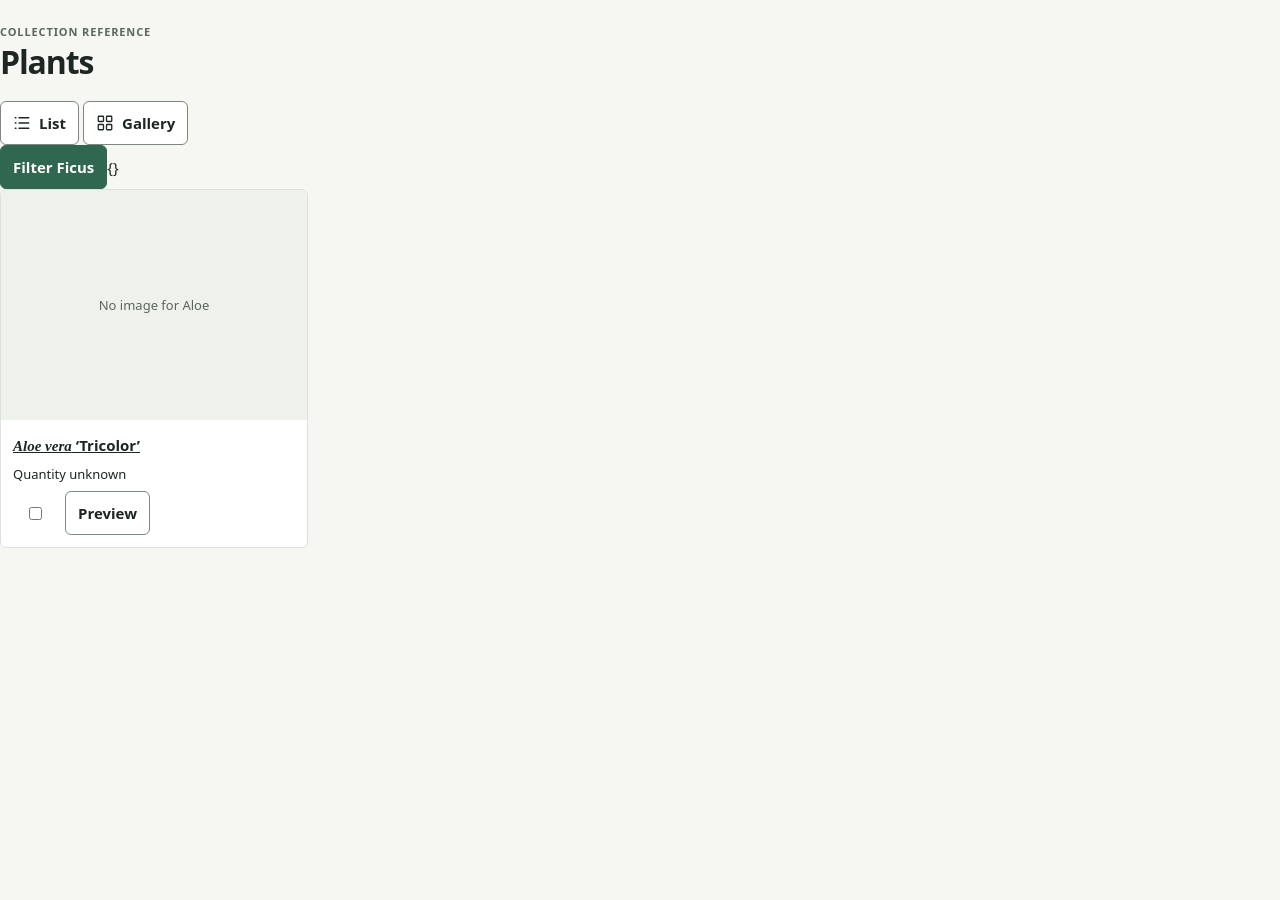
Test: compact preview uses the house dialog, contains focus and returns on Escape
Step 1. Click the button with aria-label "Quick preview Aloe" → (108, 513), box x1=65 y1=491 x2=150 y2=535
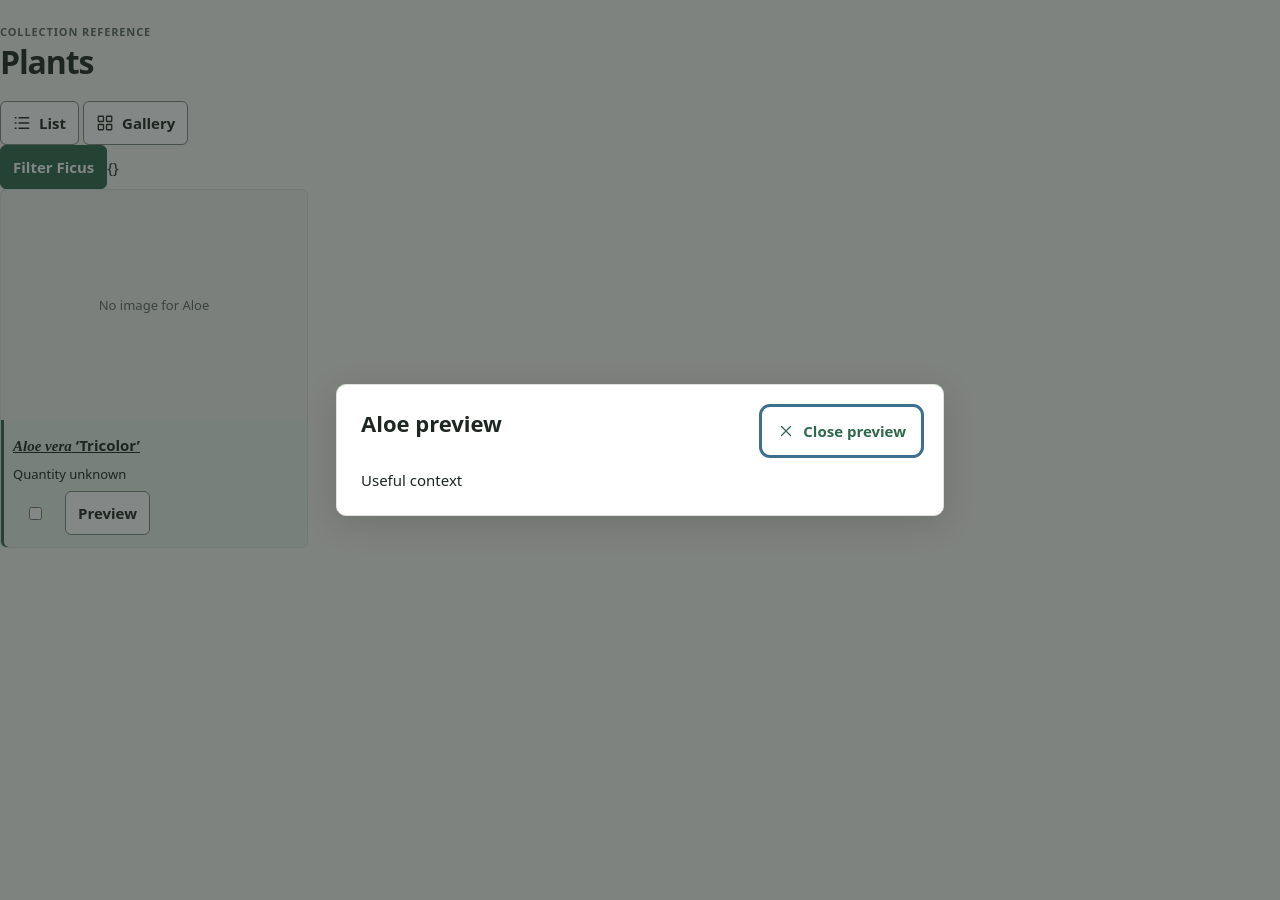
Step 2. Press Tab
Step 3. Press Escape
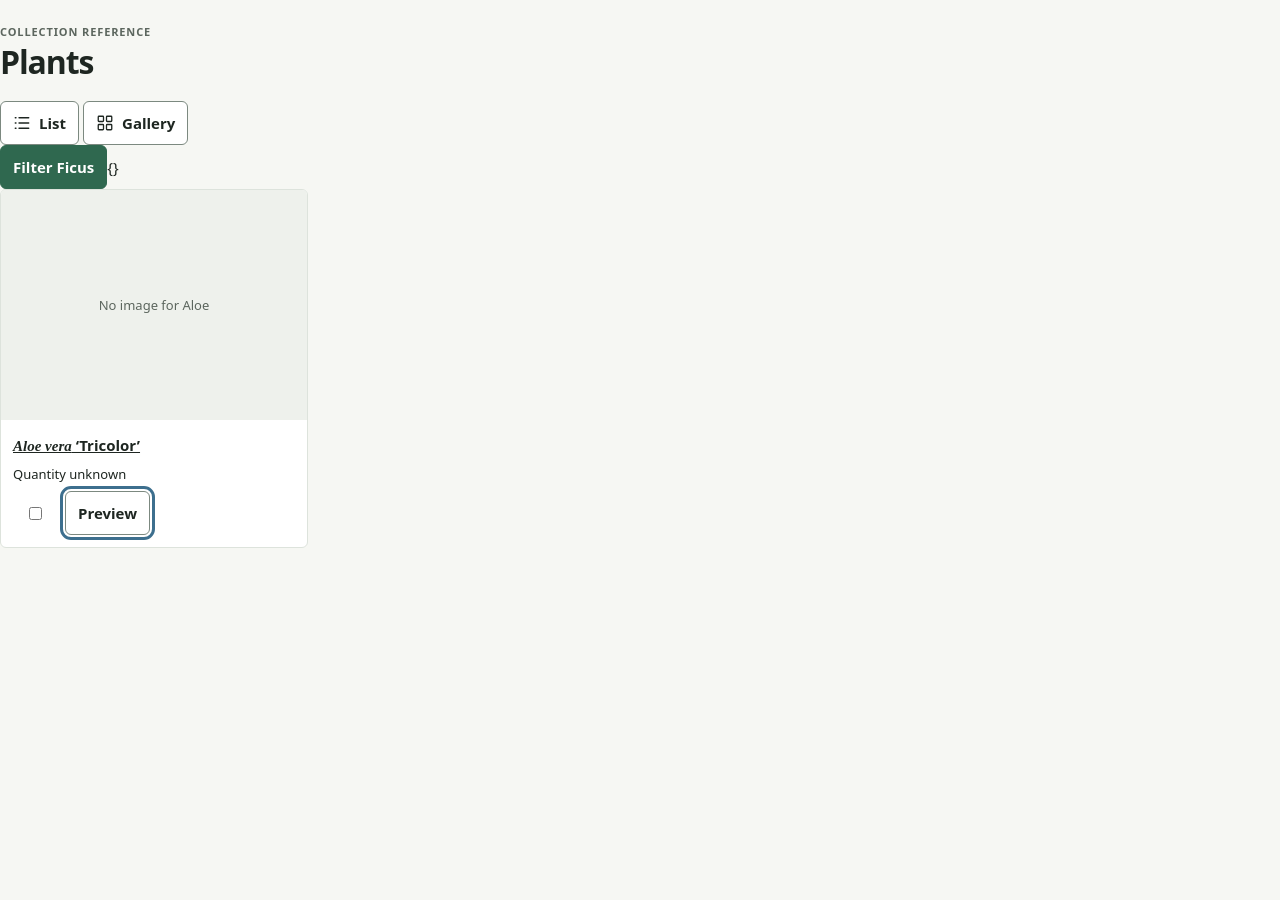
Result: the dialog is gone
